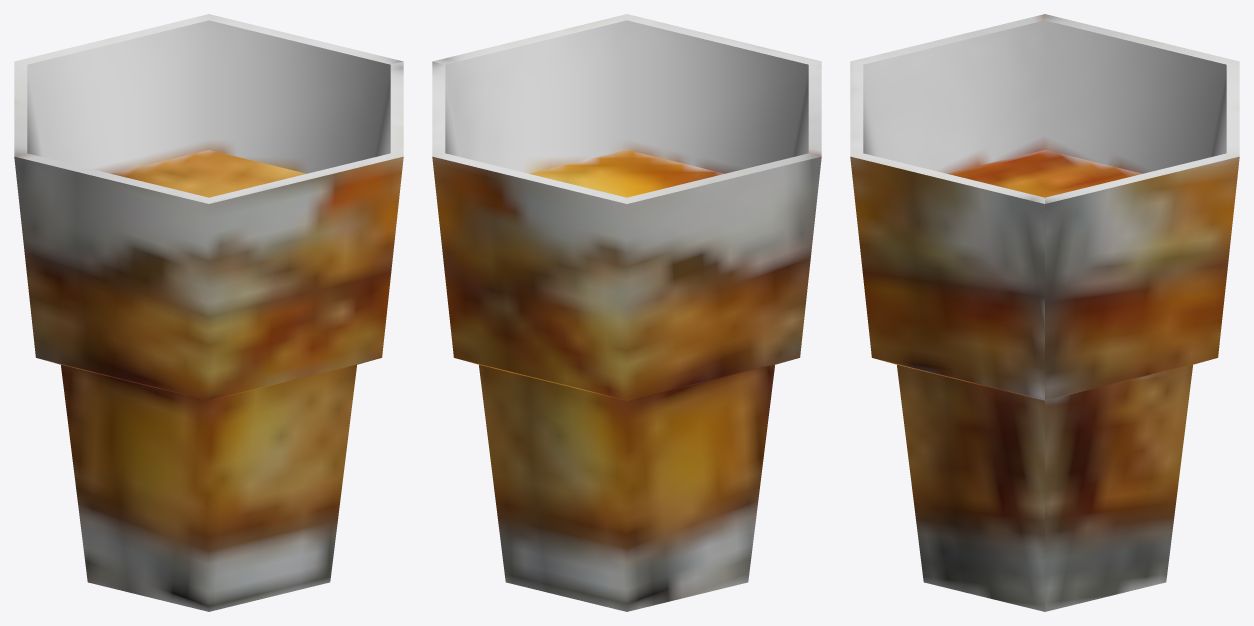
File: DrinkV14.fbx
3 renders of one model, left to right at view 1: azimuth 30°, elevation 25°; view 2: azimuth 150°, elevation 25°; view 3: azimuth 270°, elevation 25°, orthographic.
Parts seen in each view (by area): view 1: Cocktails.016; view 2: Cocktails.016; view 3: Cocktails.016.
Boxes of the visible parts, left/top/right/bottom form: Cocktails.016: left=14, top=14, right=403, bottom=611; Cocktails.016: left=432, top=14, right=821, bottom=611; Cocktails.016: left=850, top=14, right=1239, bottom=611.
Bounding box in the file's own units: 0.1675 × 0.1823 × 0.1451.
